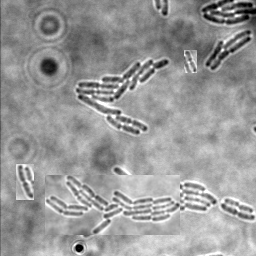Dividing: (219, 204, 255, 222), (16, 164, 34, 200), (223, 199, 253, 215), (87, 197, 116, 209), (184, 50, 197, 73)
Microcolony: (45, 175, 180, 235), (75, 59, 169, 136), (204, 30, 251, 72), (200, 1, 255, 26)
